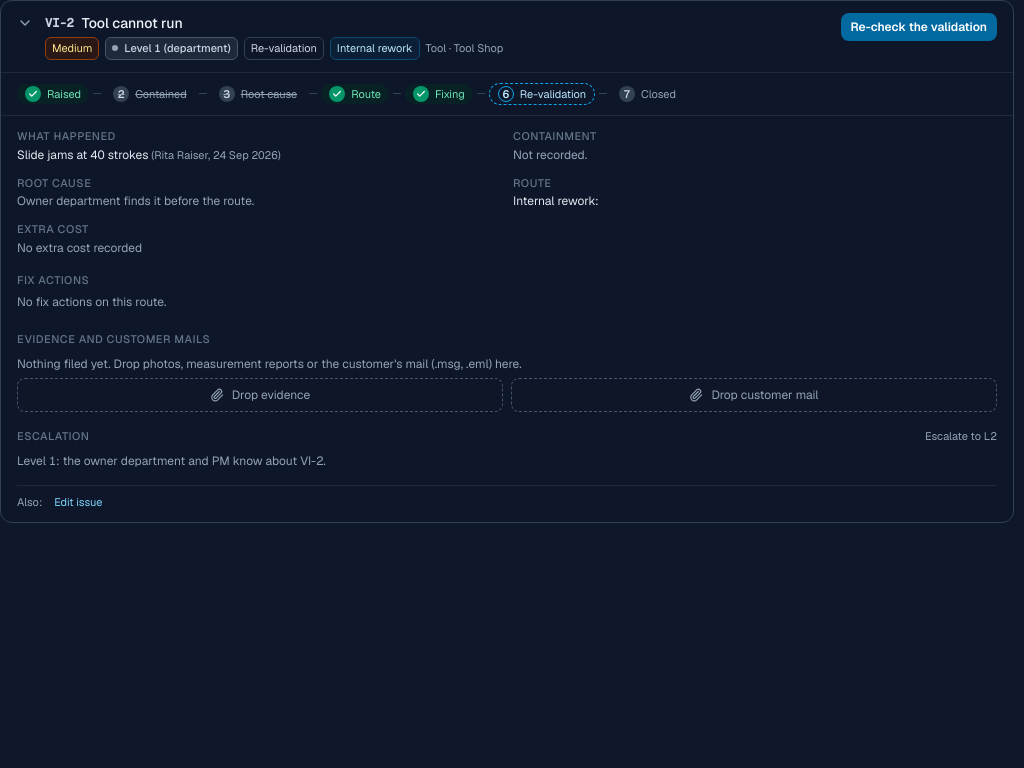
Test: follow-ups: recheck, add_action, acts after close › recheck is the primary act and points at the linked check in the validation panel
Step 1. Click the button with test id "issue-primary-11" → (919, 27), box [840, 13, 997, 41]
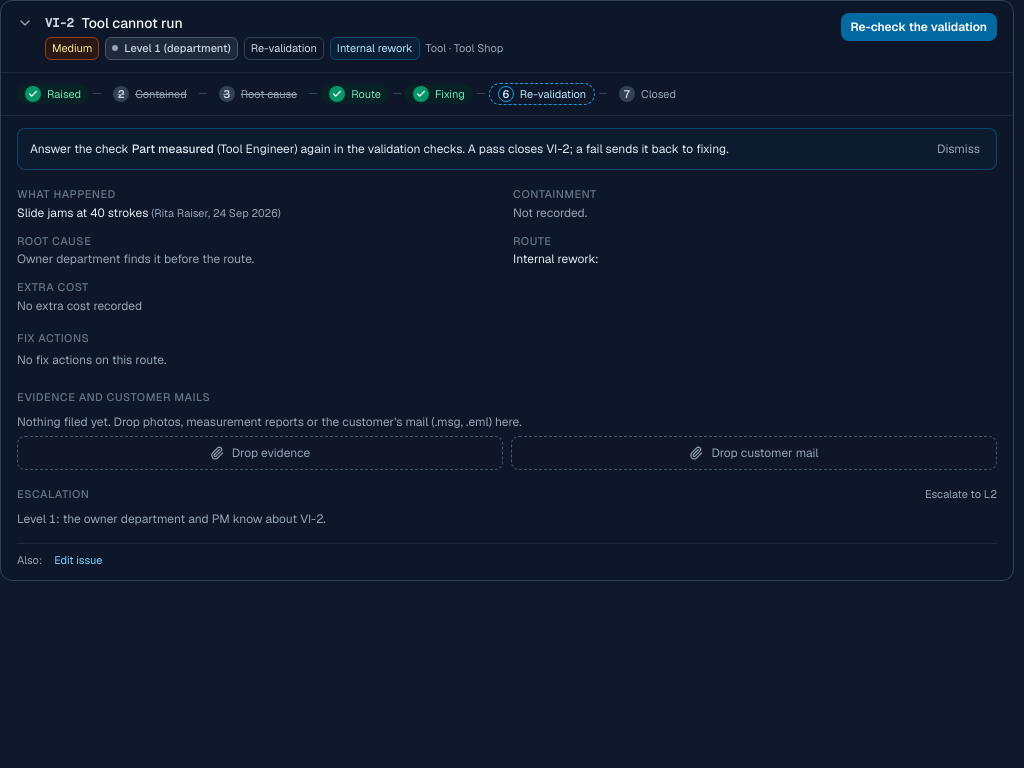
Expected: the element with test id "issue-recheck-11" shows "Part measured", [132, 141, 214, 157]
Expected: the element with test id "issue-recheck-11" shows "(Tool Engineer)", [214, 141, 298, 157]
